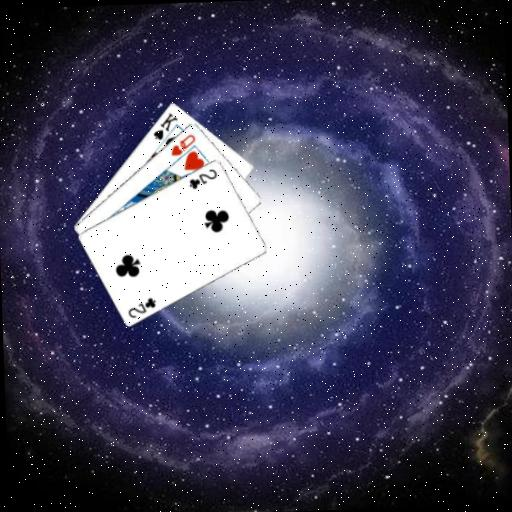2C: (124, 294, 158, 319), (186, 165, 219, 190)
KS: (149, 108, 180, 141)
QH: (166, 130, 197, 157)
